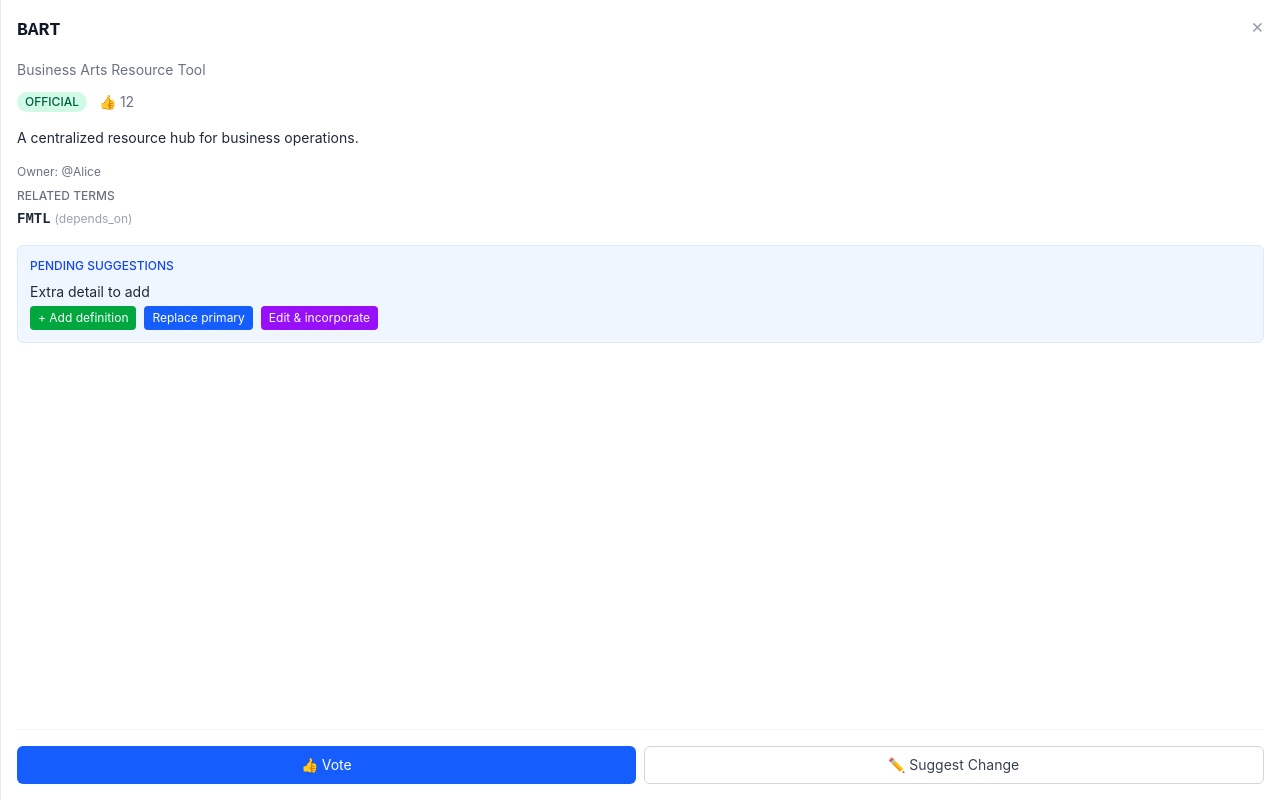
Test case: TermDetail › incorporate flow › opens inline editor pre-populated with current definition on Edit & incorporate click
Click the button with aria-label "edit and incorporate suggestion" at [319, 318], box left=261, top=306, right=378, bottom=330
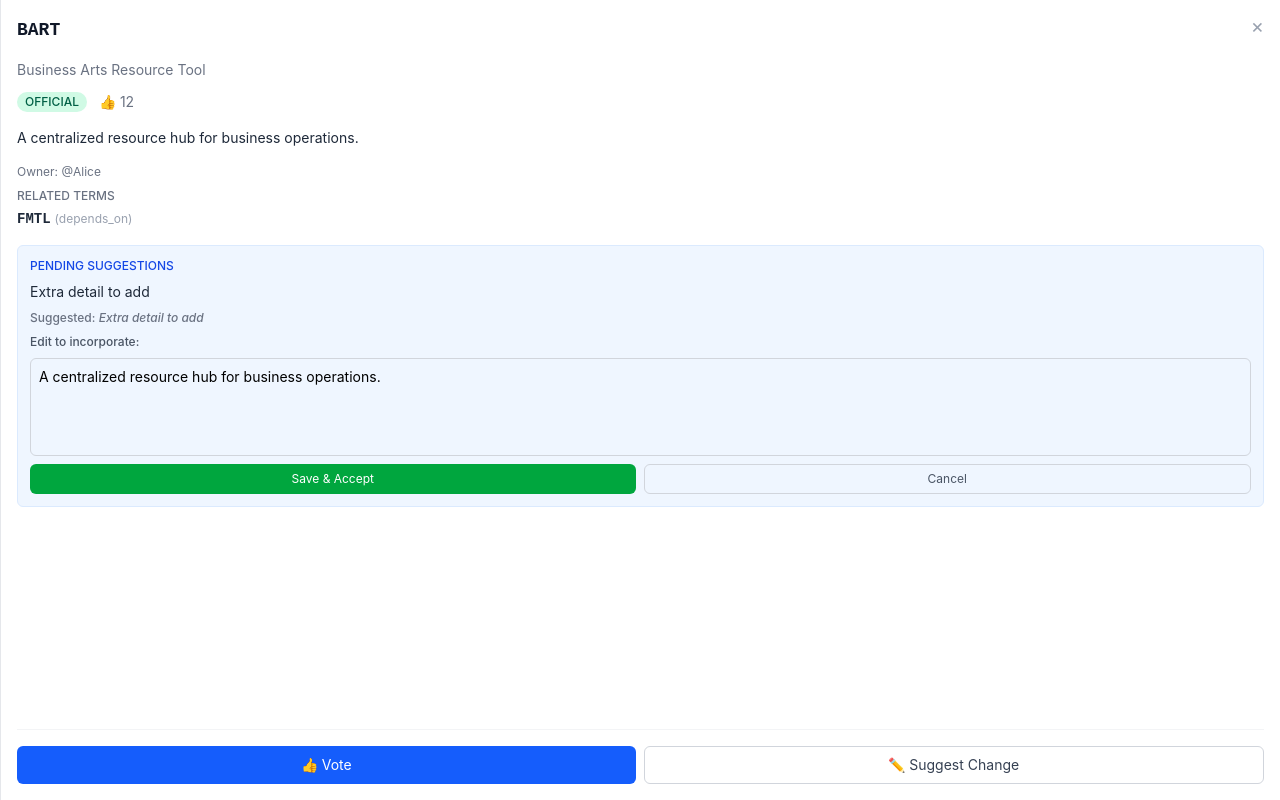
expect the text box labelled "Edit to incorporate:" holds "A centralized resource hub for business operations.": met, box left=30, top=358, right=1251, bottom=456
